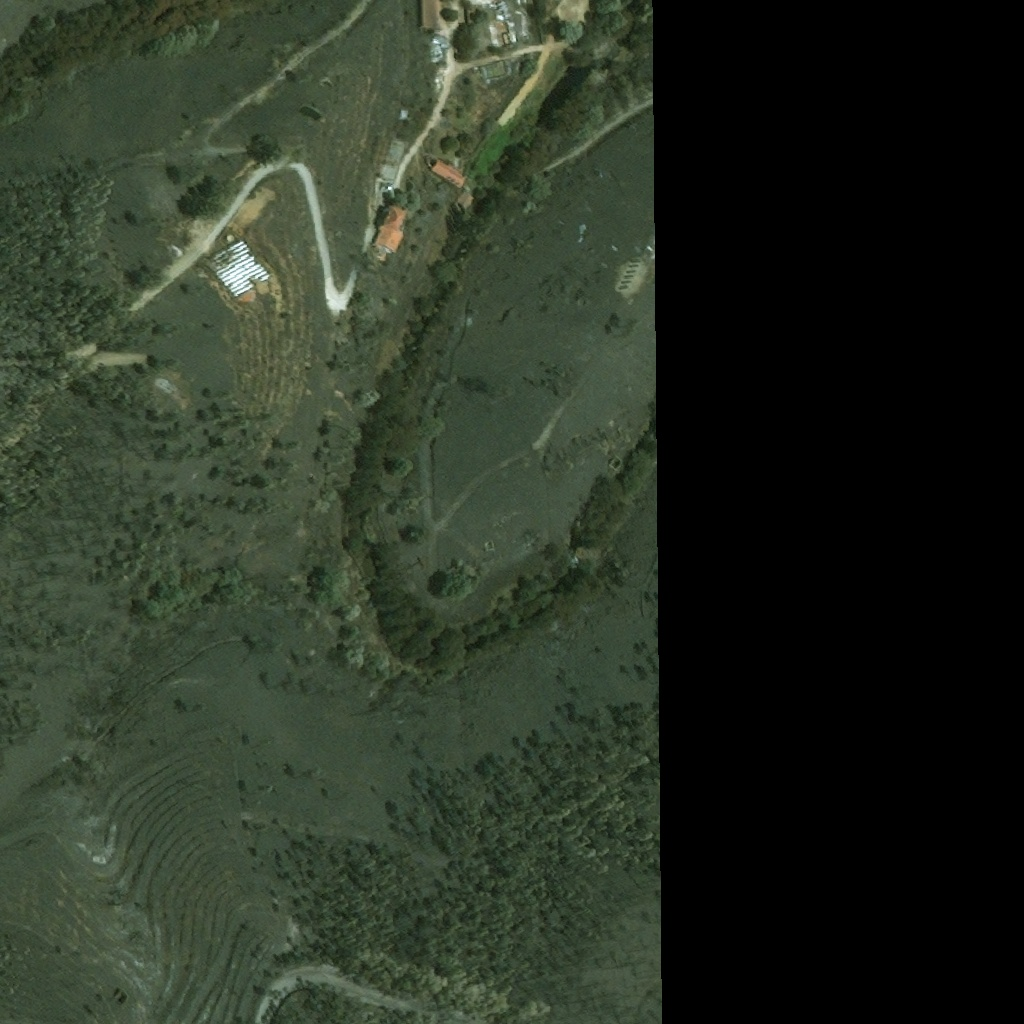0 no-damage: (205, 238, 273, 298), (372, 200, 409, 253), (428, 161, 464, 190), (451, 191, 474, 217), (421, 0, 439, 28), (423, 154, 437, 172), (464, 8, 476, 25), (227, 234, 234, 242)
3 destroyed: (379, 137, 407, 181), (496, 0, 521, 46), (479, 60, 513, 83), (429, 30, 443, 50), (165, 377, 183, 391), (399, 108, 412, 122), (434, 53, 443, 57)
4 un-classified: (554, 547, 586, 579), (653, 255, 661, 273)
